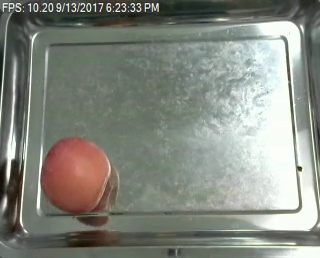Apple: (41, 138, 110, 213)
